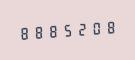eight: (17, 23, 30, 42), (31, 22, 44, 41), (45, 21, 58, 40), (101, 17, 114, 36)
five: (59, 20, 72, 39)
two: (73, 19, 86, 38)
zero: (87, 18, 100, 37)
